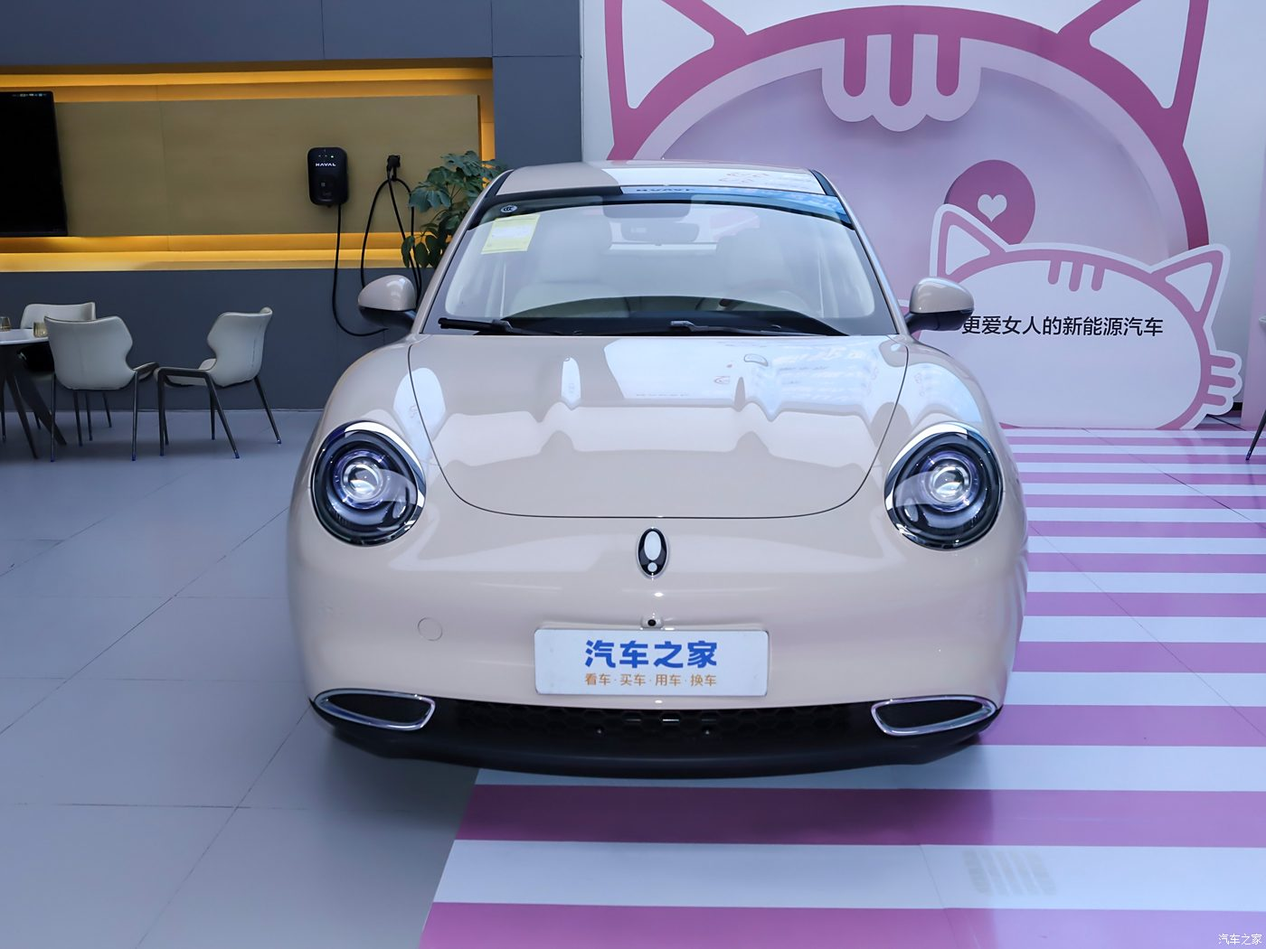ORA: (638, 529, 667, 576)
